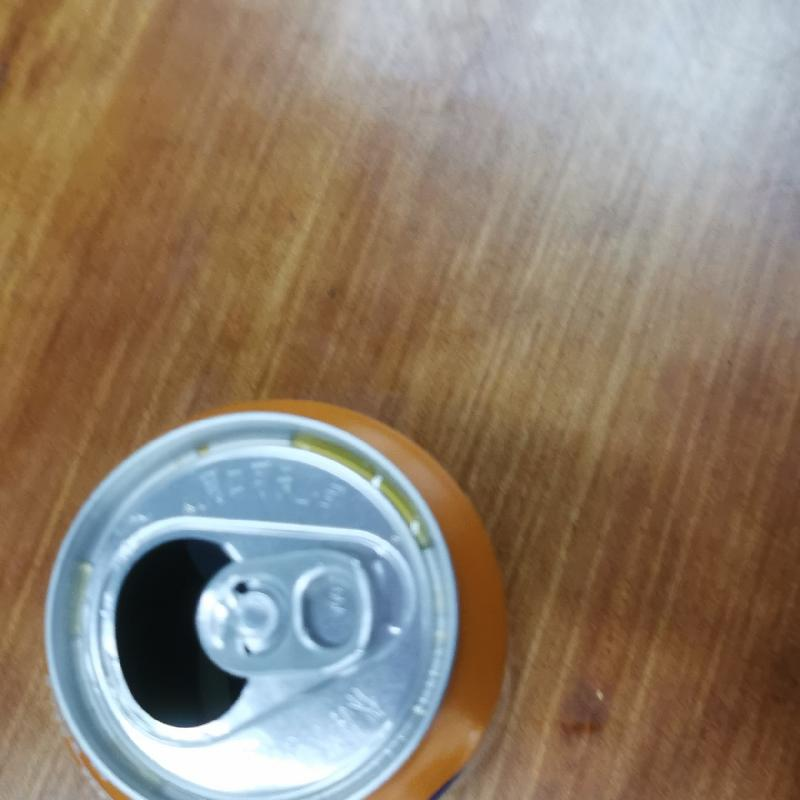cans: (44, 395, 513, 800)
